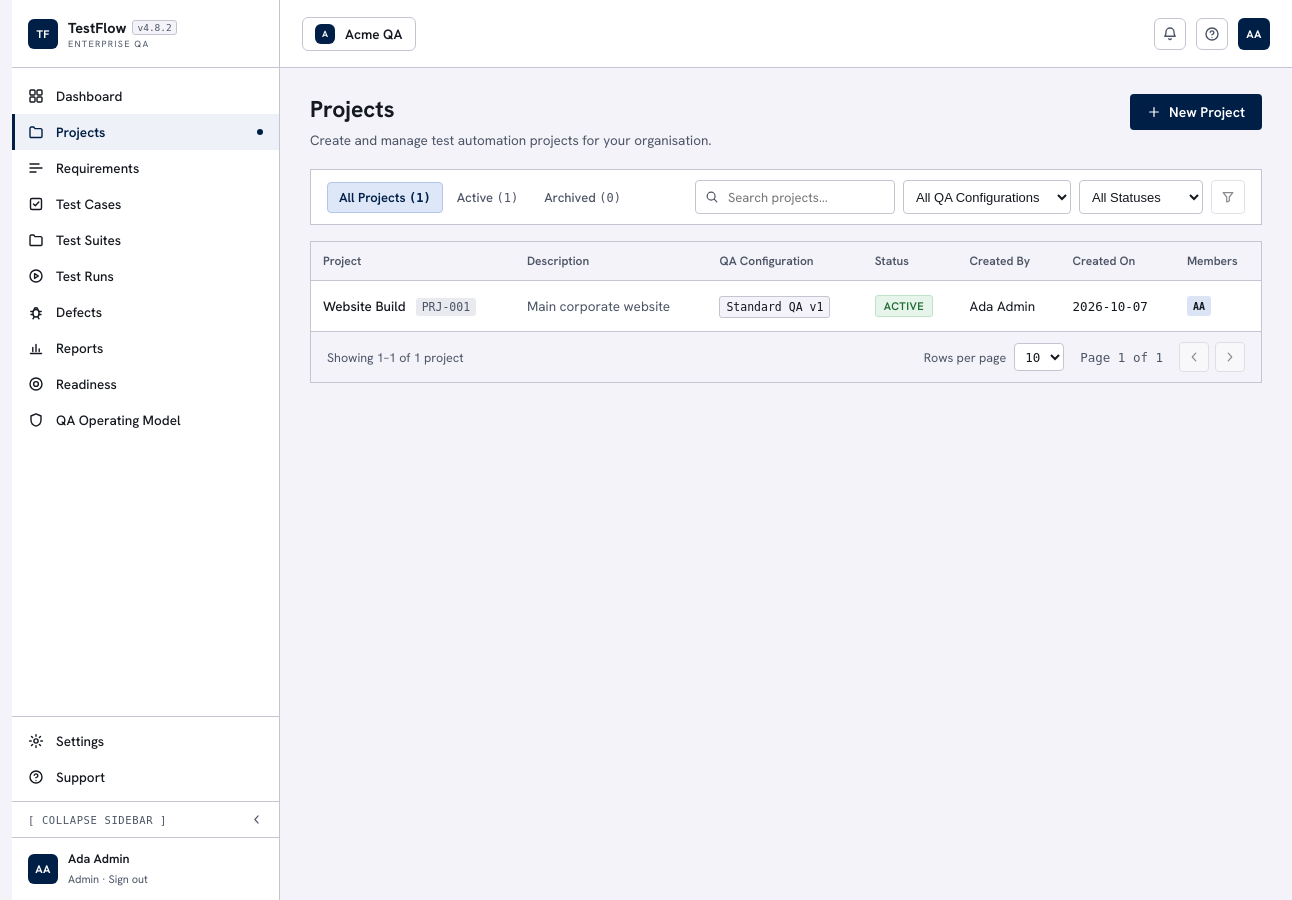
Test: Projects page › Projects — List: stale responses and failures › hides the stale rows and shows an error with Try again when reloading for a new filter fails
This screenshot has width=1292, height=900.
Expected: the table is shown, [311,242,1261,332]
Click the button "Archived (0)".
click(583, 197)  # box [532,182,633,212]
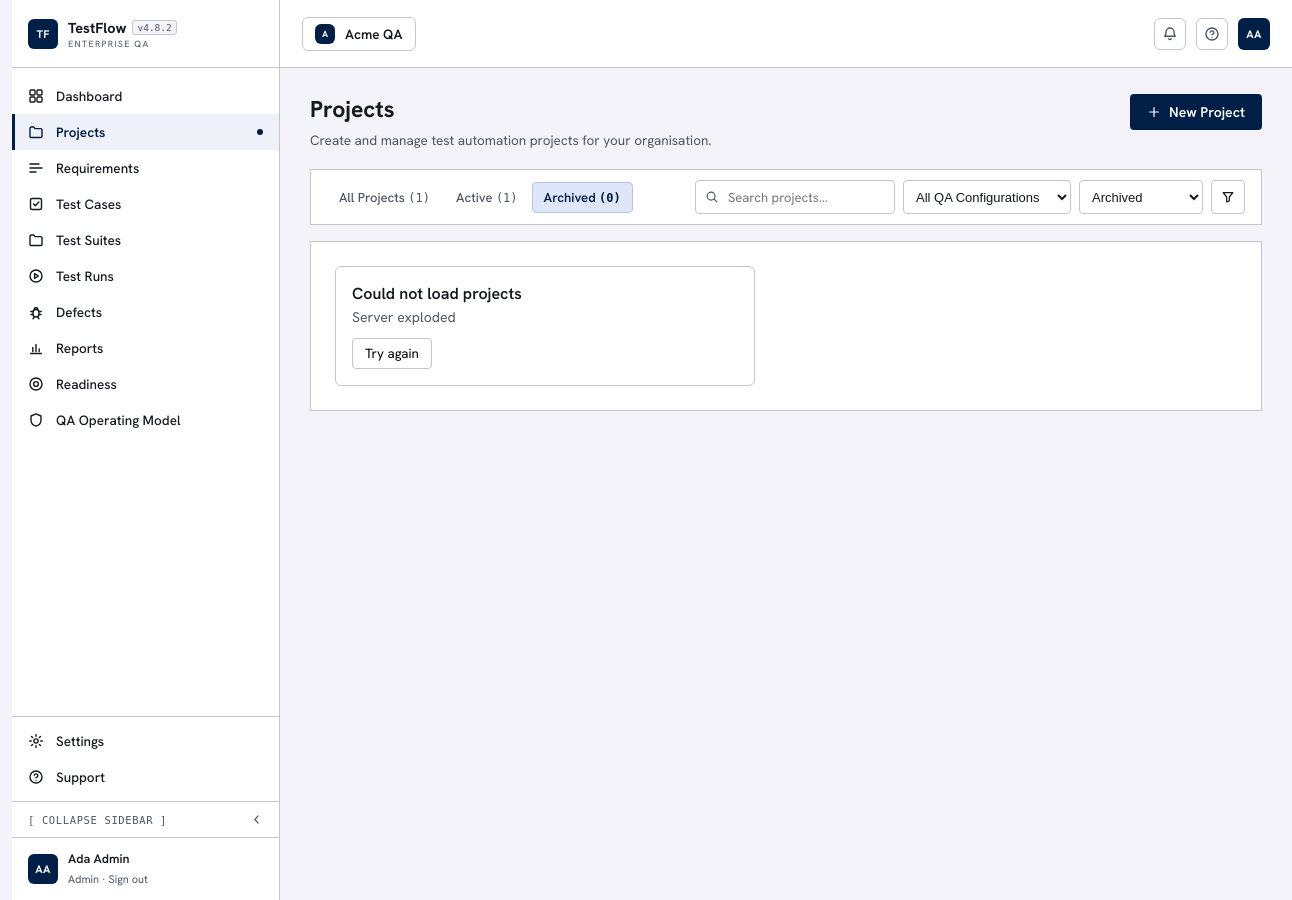
Result: the text "Could not load projects" is shown at [352,283,522,304]
Result: the text "Server exploded" is shown at [352,308,456,326]
Result: the table is gone
Click the button "Try again".
click(392, 354)  # box [352,338,432,369]
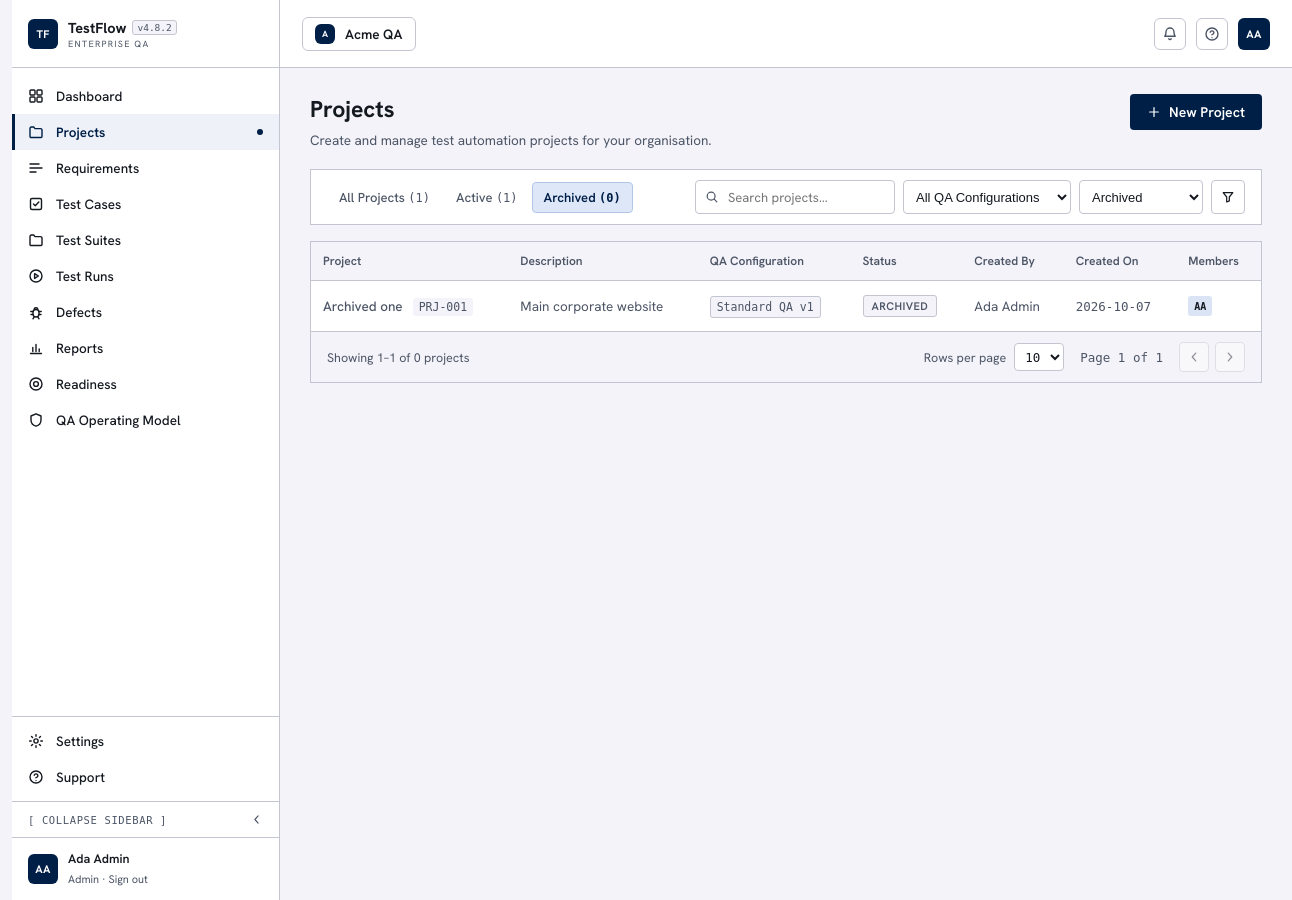
Result: the text "Archived one" is shown at [323,297,403,315]
